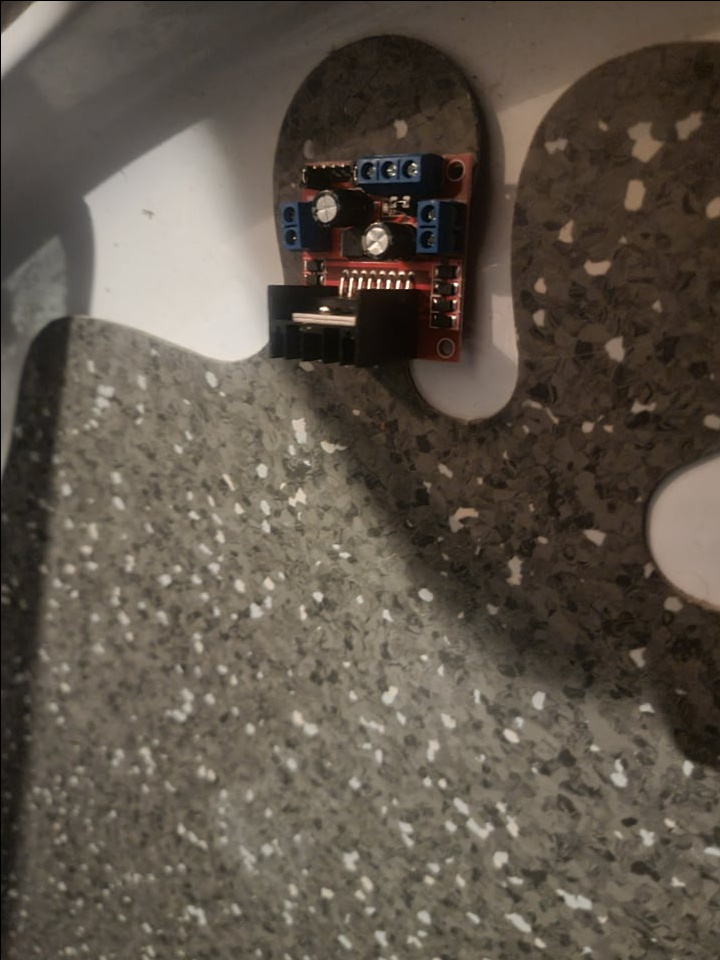MOTOR: (262, 143, 480, 364)
